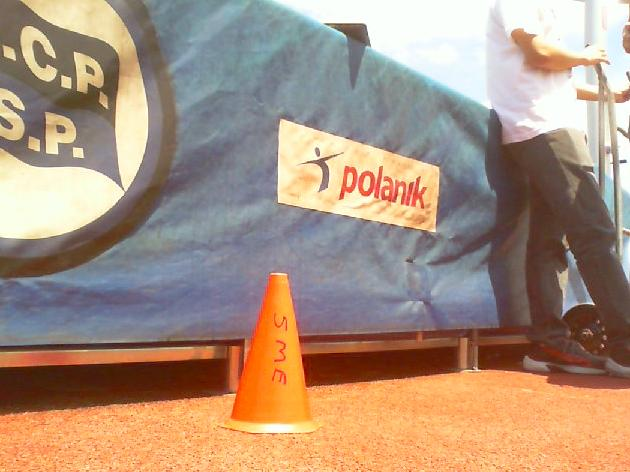0 cone: (221, 273, 323, 434)
